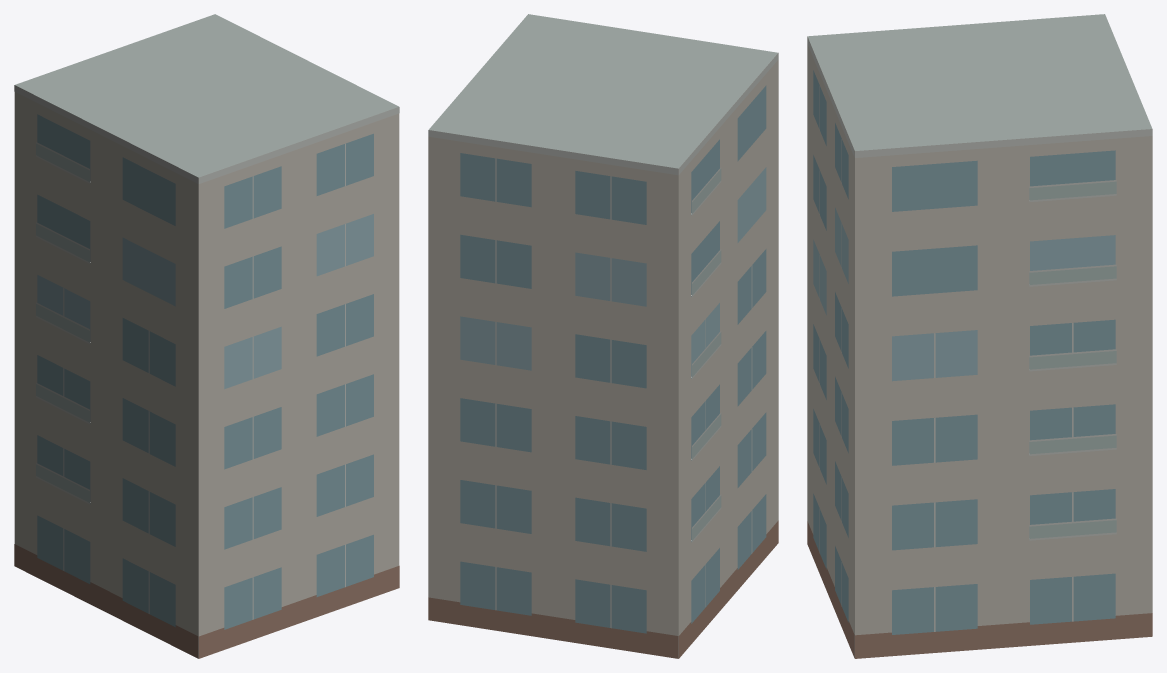
Rendered from survey-upis-32929094.glb.
The picture shows the model from 3 angles, left to right: view 1: azimuth 30°, elevation 25°; view 2: azimuth 150°, elevation 25°; view 3: azimuth 270°, elevation 25°; orthographic projection. The views are drawn at different scales.
Visible parts, largest first — view 1: survey-upis-32929094.tmp; view 2: survey-upis-32929094.tmp; view 3: survey-upis-32929094.tmp.
Boxes of the visible parts, <box> form: survey-upis-32929094.tmp: <box>14,14,399,658</box>; survey-upis-32929094.tmp: <box>428,14,778,658</box>; survey-upis-32929094.tmp: <box>807,14,1152,658</box>.
Size of the model in its own units: 10.32 by 17.8 by 10.98.
